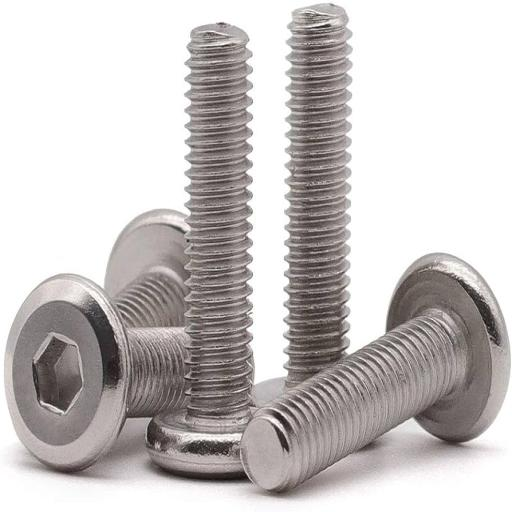Hex-Allen: (5, 271, 130, 471)
